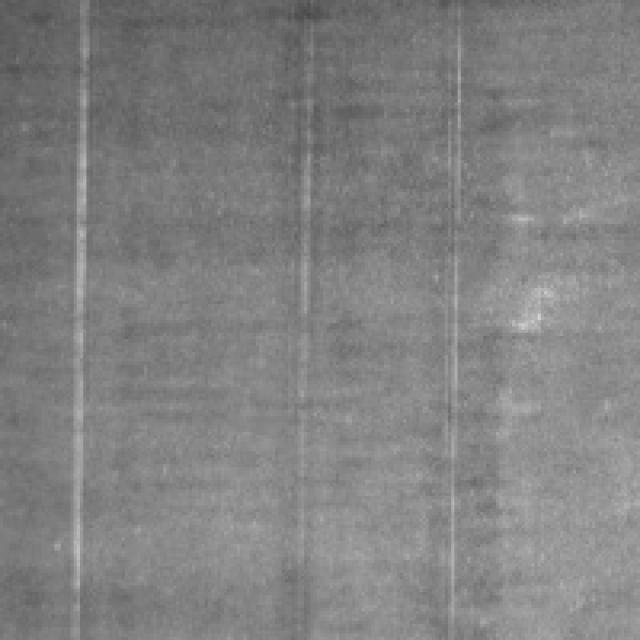scratches: (54, 10, 100, 627)
